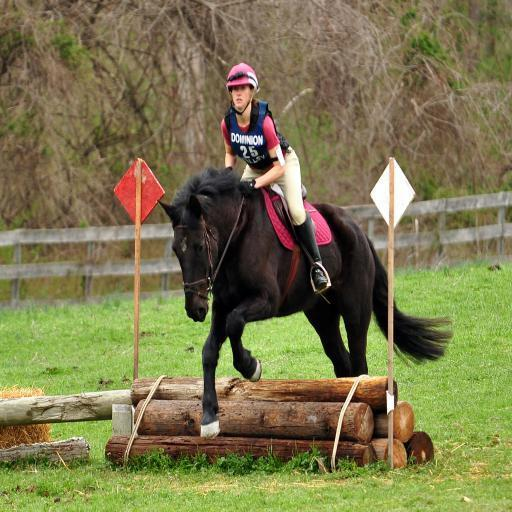horse: (156, 166, 456, 444)
